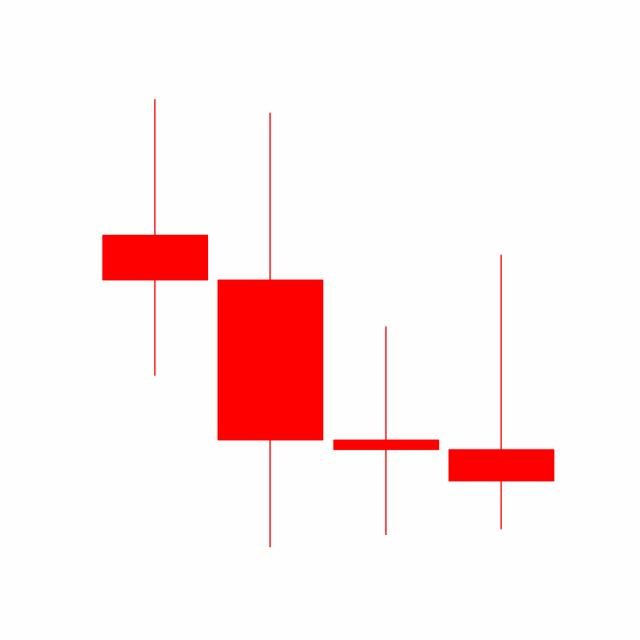Spinning Top: (443, 252, 559, 533)
